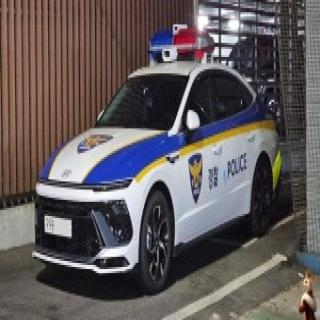Police_car: (34, 25, 282, 293)
